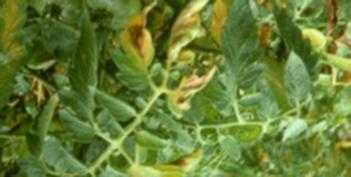Tomato Early blight leaf: (163, 0, 233, 68), (118, 3, 157, 93), (166, 67, 224, 114), (25, 92, 60, 164), (130, 147, 209, 177), (0, 0, 30, 63)
Tomato leaf: (62, 13, 100, 116), (220, 0, 259, 91), (285, 50, 308, 106)
